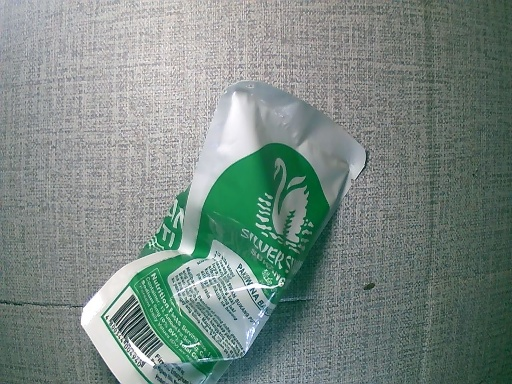plastic: (79, 80, 371, 384)
